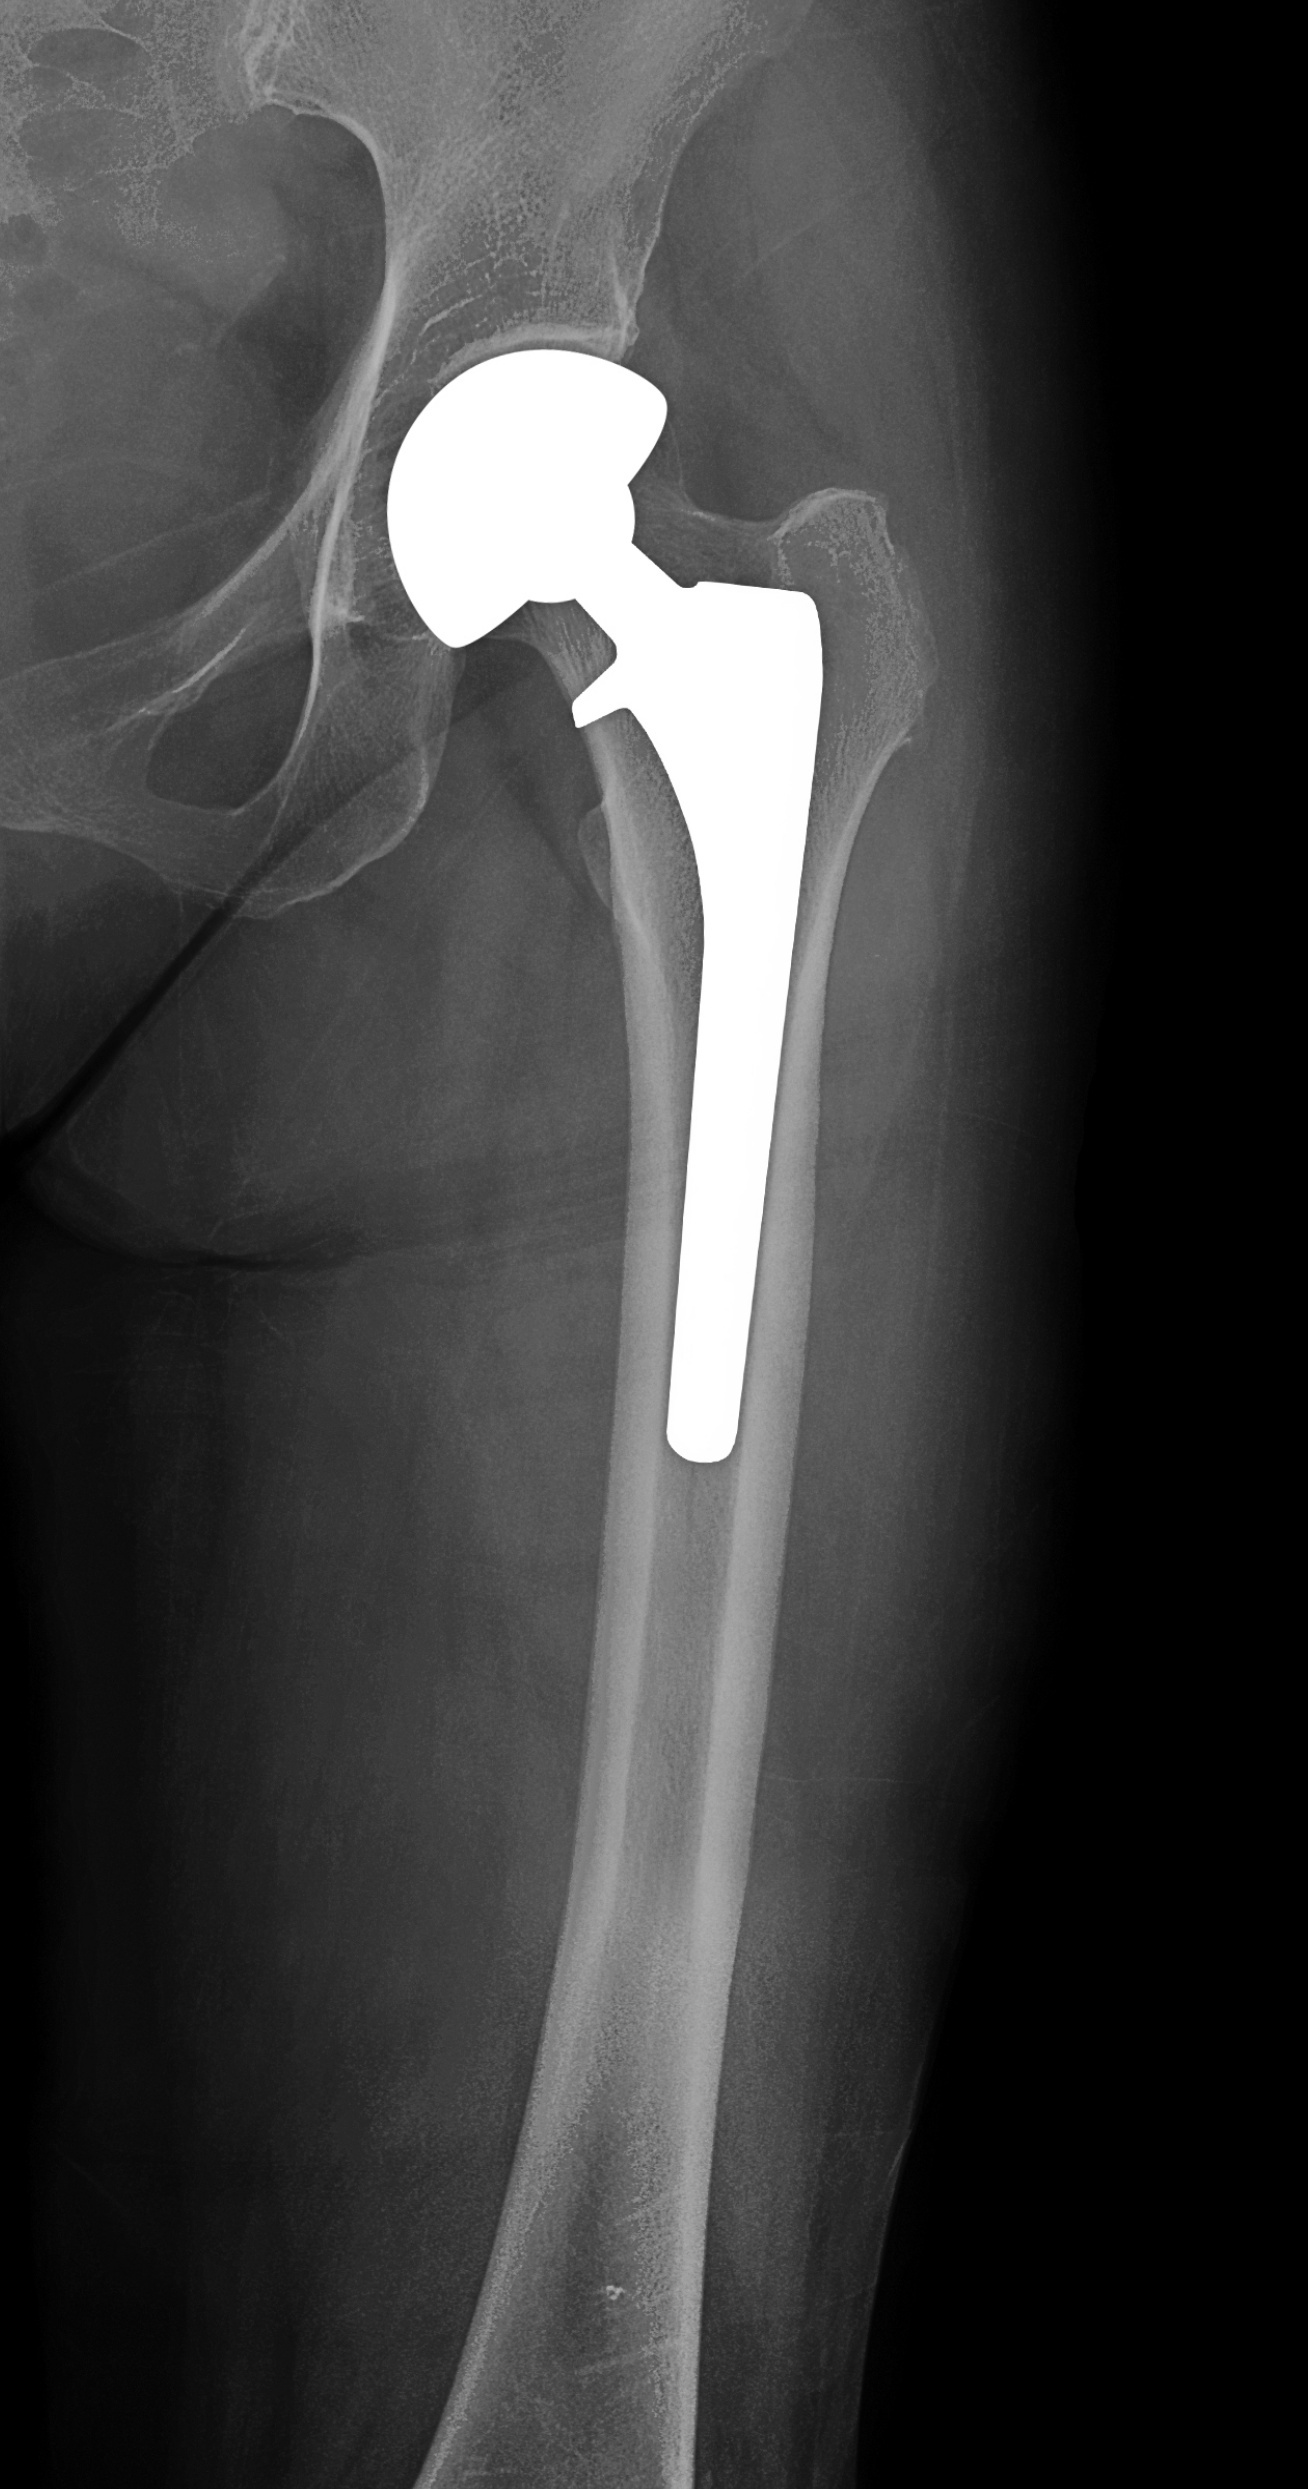Hip - APR - Zimmer: (298, 250, 939, 1567)
